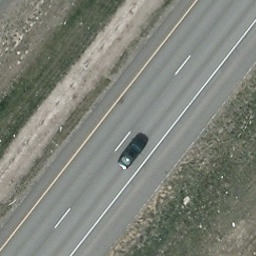car: (118, 138, 145, 171)
